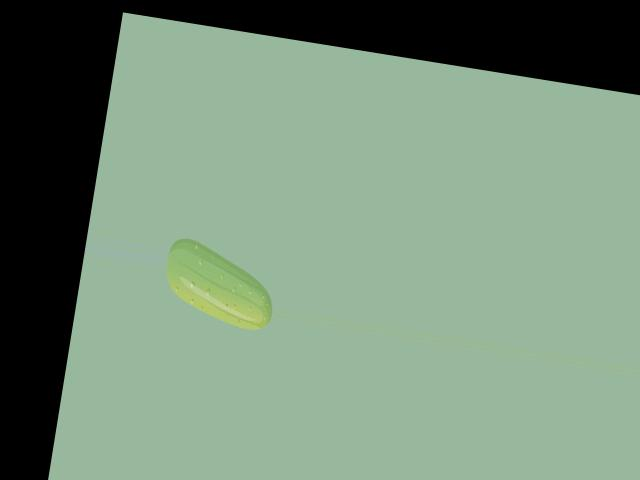cucumber: (158, 235, 281, 332)
